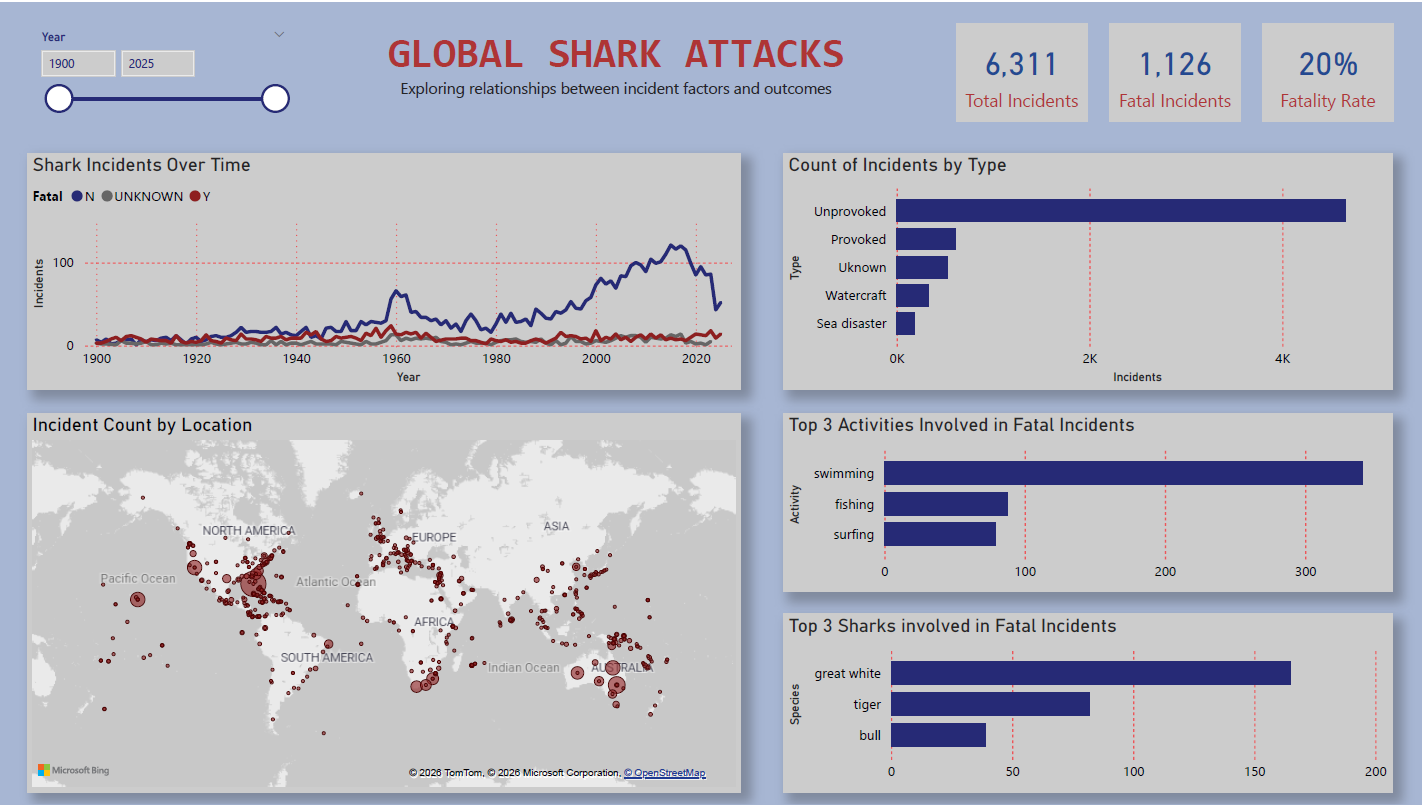

The page's visual inventory and layout, read from the dashboard file:
{"tool":"powerbi","page":{"name":"Shark Dashboard","canvas":[1280,720],"ordinal":0},"visuals":[{"type":"clusteredBarChart","title":"Top 3 Activities Involved in Fatal Incidents","fields":{"Category":["cleaned_GSAF2.Activity"],"Y":["CountNonNull(cleaned_GSAF2.Fatal)"]},"box":[703.3,368.8,547,159.8],"z":0},{"type":"clusteredBarChart","title":"Top 3 Sharks involved in Fatal Incidents","fields":{"Category":["cleaned_GSAF2.Species"],"Y":["CountNonNull(cleaned_GSAF2.Fatal)"]},"box":[703.3,548.8,547,159.8],"z":1000},{"type":"map","title":"Incident Count by Location","fields":{"Category":["cleaned_GSAF2.Country","cleaned_GSAF2.State","cleaned_GSAF2.Location"],"Size":["CountNonNull(cleaned_GSAF2.Fatal)"]},"box":[24,369,641,340],"z":2000},{"type":"lineChart","title":"Shark Incidents Over Time","fields":{"Category":["cleaned_GSAF2.Year"],"Series":["cleaned_GSAF2.Fatal"],"Y":["CountNonNull(cleaned_GSAF2.Record_ID)"]},"box":[24,135,641,212],"z":3000},{"type":"slicer","fields":{"Values":["cleaned_GSAF2.Year"]},"box":[23.7,19.3,244.1,95.7],"z":4000},{"type":"textbox","box":[284.5,19.1,536.4,88.2],"z":5000},{"type":"barChart","title":"Count of Incidents by Type","fields":{"Category":["cleaned_GSAF2.Type"],"Y":["CountNonNull(cleaned_GSAF2.Fatal)"]},"box":[703,135,547,212],"z":6000},{"type":"card","fields":{"Values":["CountNonNull(cleaned_GSAF2.Record_ID)"]},"box":[859.1,19.1,117.3,88.2],"z":7000},{"type":"card","fields":{"Values":["CountNonNull(cleaned_GSAF2.Record_ID)"]},"box":[996.4,19.1,117.3,88.2],"z":9000},{"type":"card","fields":{"Values":["cleaned_GSAF2.Fatality Rate"]},"box":[1133.6,19.1,117.3,88.2],"z":10000}]}

Visuals, with their boxes in screenshot pixels (x1, y1, x2, y2), scaled from the page's 1280x720 canvas onto the 1422x806 screenshot:
"Top 3 Activities Involved in Fatal Incidents" clusteredBarChart: detection(781, 413, 1389, 592)
"Top 3 Sharks involved in Fatal Incidents" clusteredBarChart: detection(781, 614, 1389, 793)
"Incident Count by Location" map: detection(27, 413, 739, 794)
"Shark Incidents Over Time" lineChart: detection(27, 151, 739, 388)
slicer - cleaned_GSAF2.Year: detection(26, 22, 298, 129)
textbox: detection(316, 21, 912, 120)
"Count of Incidents by Type" barChart: detection(781, 151, 1389, 388)
card - CountNonNull(cleaned_GSAF2.Record_ID): detection(954, 21, 1085, 120)
card - CountNonNull(cleaned_GSAF2.Record_ID): detection(1107, 21, 1237, 120)
card - cleaned_GSAF2.Fatality Rate: detection(1259, 21, 1390, 120)
